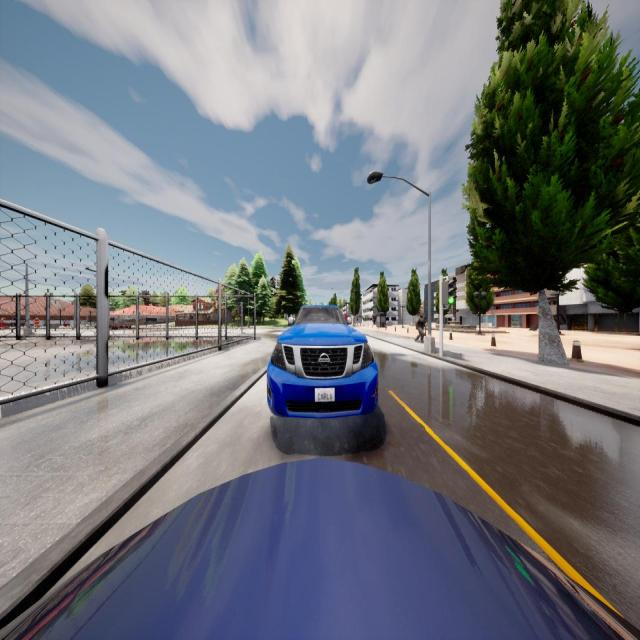Pedestrian: (415, 313, 427, 342), (33, 314, 40, 333)
Vehicle: (0, 462, 640, 640), (266, 306, 378, 418)
traffic_light: (443, 279, 456, 304), (238, 306, 241, 315)
